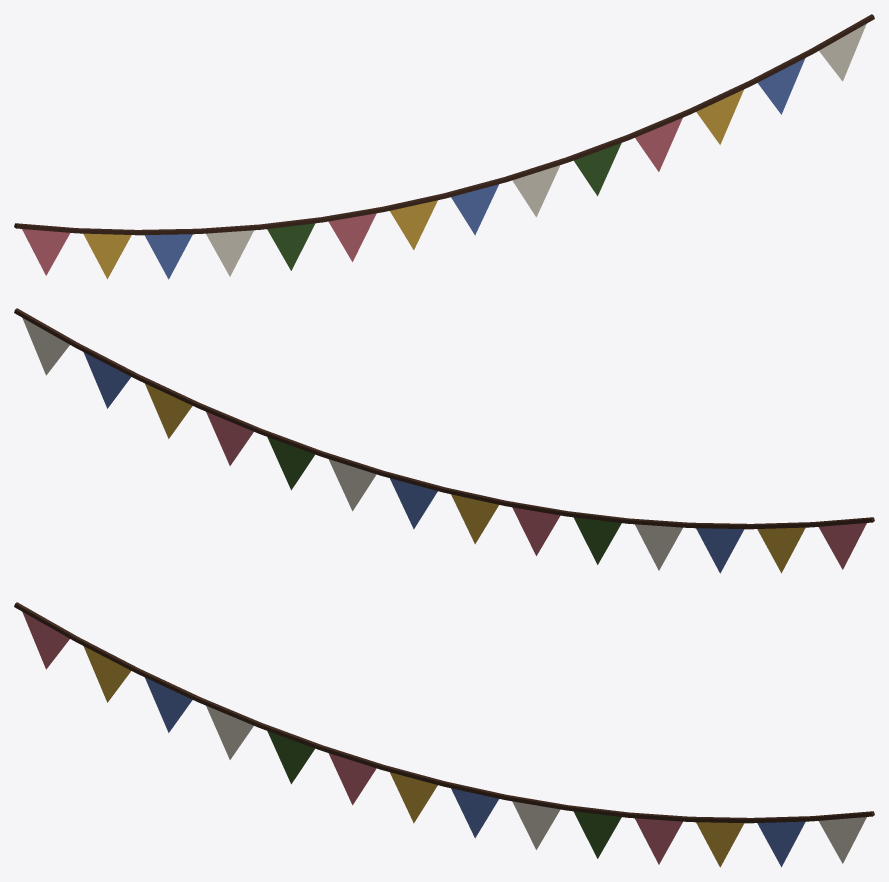
File: bunting.glb
The picture shows the model from 3 angles, top to bottom: view 1: azimuth 30°, elevation 25°; view 2: azimuth 150°, elevation 25°; view 3: azimuth 330°, elevation 25°; orthographic projection.
Parts seen in each view (by area): view 1: bunting; view 2: bunting; view 3: bunting.
Boxes of the visible parts, left/top/right/bottom form: bunting: left=14, top=14, right=874, bottom=279; bunting: left=14, top=308, right=874, bottom=573; bunting: left=14, top=602, right=874, bottom=867.
Bounding box in the file's own units: 6.01 × 0.8268 × 0.025.
